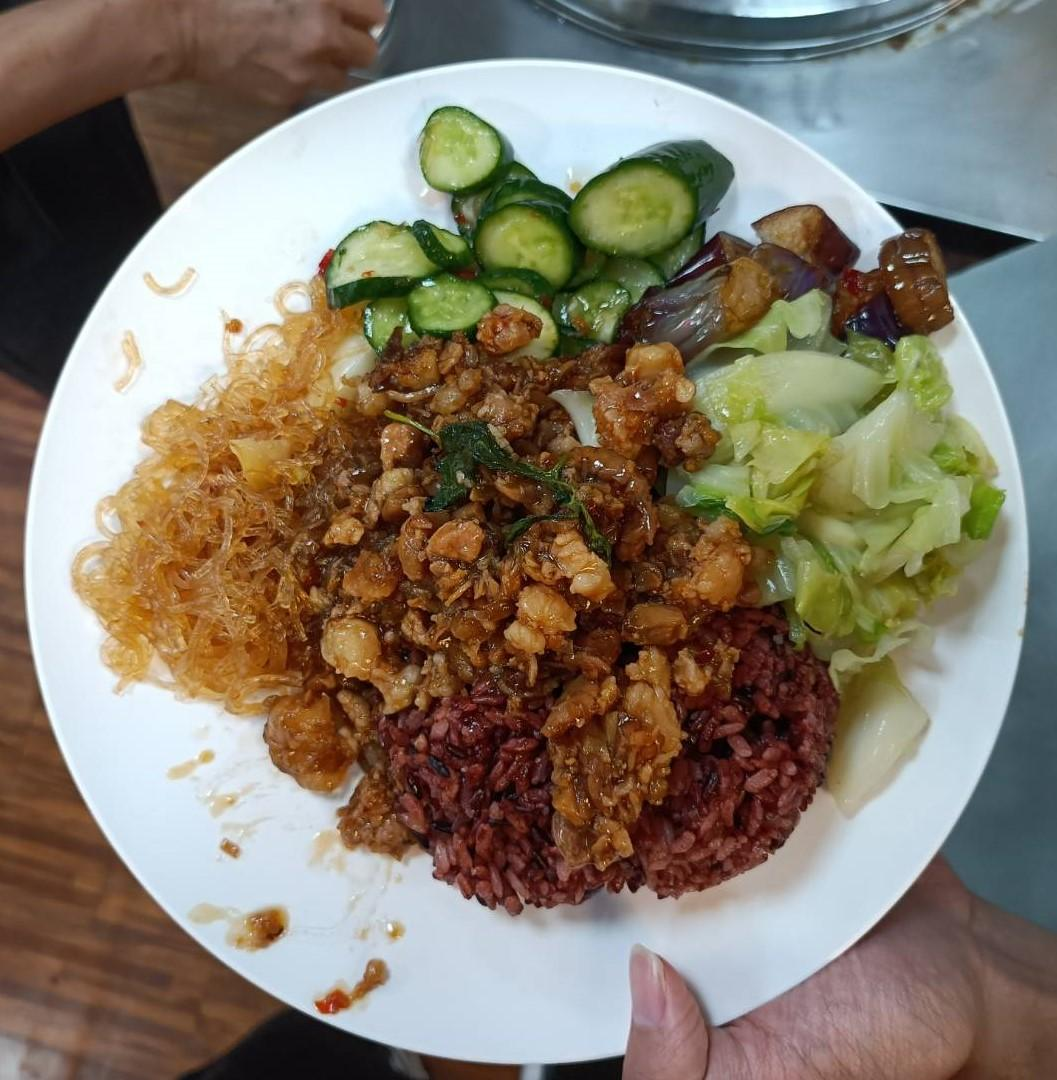big fried chicken leg: (20, 53, 1045, 1072)
braised fish: (357, 587, 837, 906)
braised fish fillet: (96, 268, 395, 754), (705, 326, 1013, 662), (296, 106, 721, 345), (623, 195, 946, 365)
braised pork: (299, 323, 735, 758)
